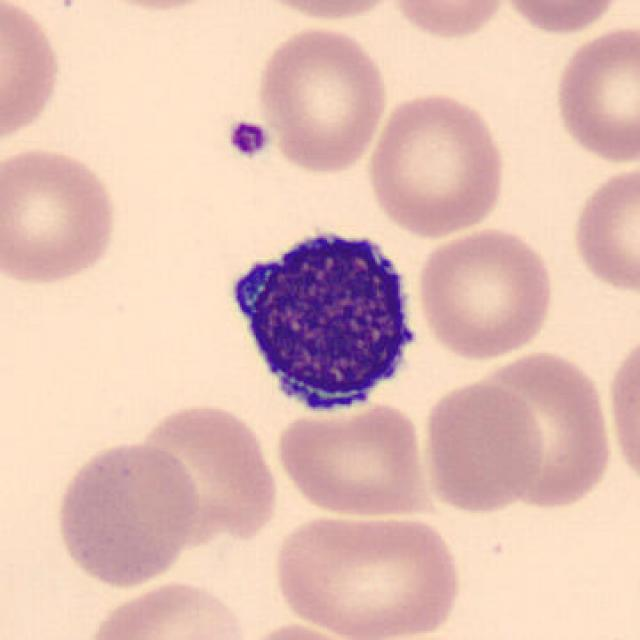Lymphocyte: (214, 213, 431, 425)
Platelets: (224, 116, 272, 160)
RBC: (266, 506, 468, 640), (125, 397, 282, 550), (49, 437, 202, 591), (476, 346, 617, 511), (363, 88, 510, 240), (251, 21, 391, 176), (412, 224, 558, 361), (272, 399, 437, 520), (0, 143, 123, 291), (418, 377, 548, 515), (550, 21, 638, 166), (76, 576, 252, 640), (0, 0, 66, 153), (567, 160, 638, 298), (604, 328, 640, 494), (387, 0, 510, 42), (496, 0, 629, 37), (243, 0, 409, 23), (229, 619, 370, 640), (78, 0, 235, 14)
